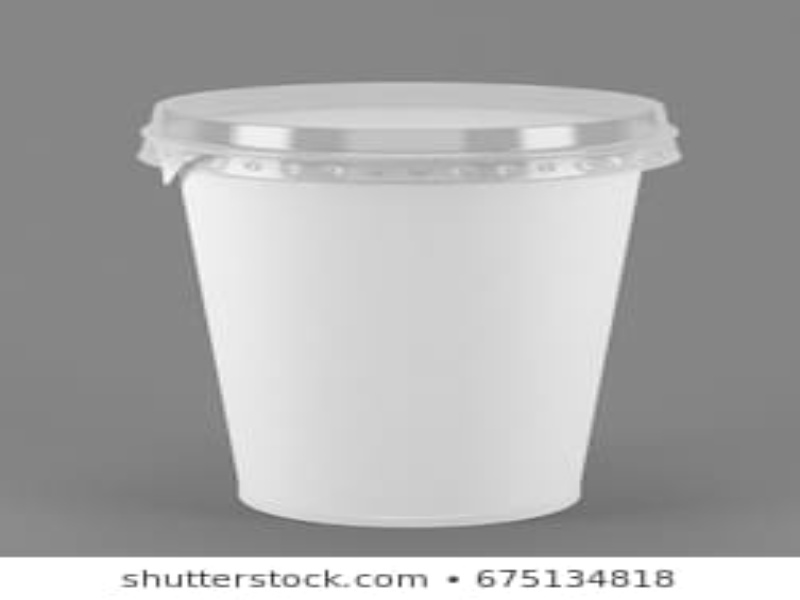yogurt-cup: (133, 78, 682, 529)
